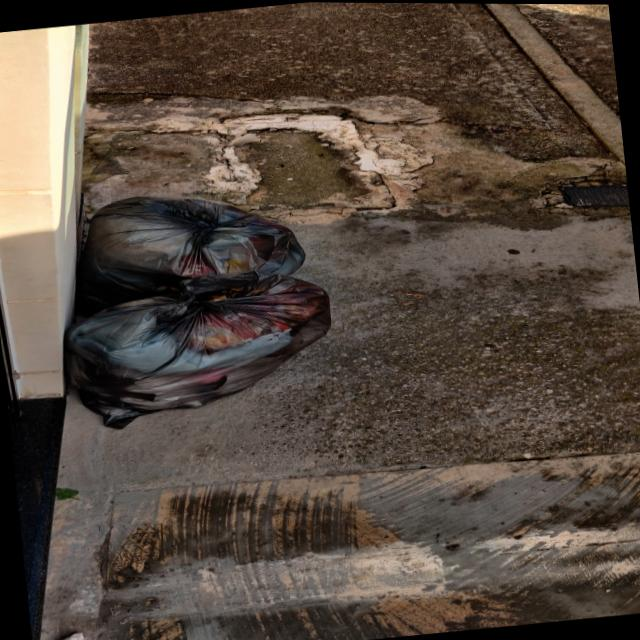Mixed Waste -Black Bags-: (69, 193, 335, 428)
